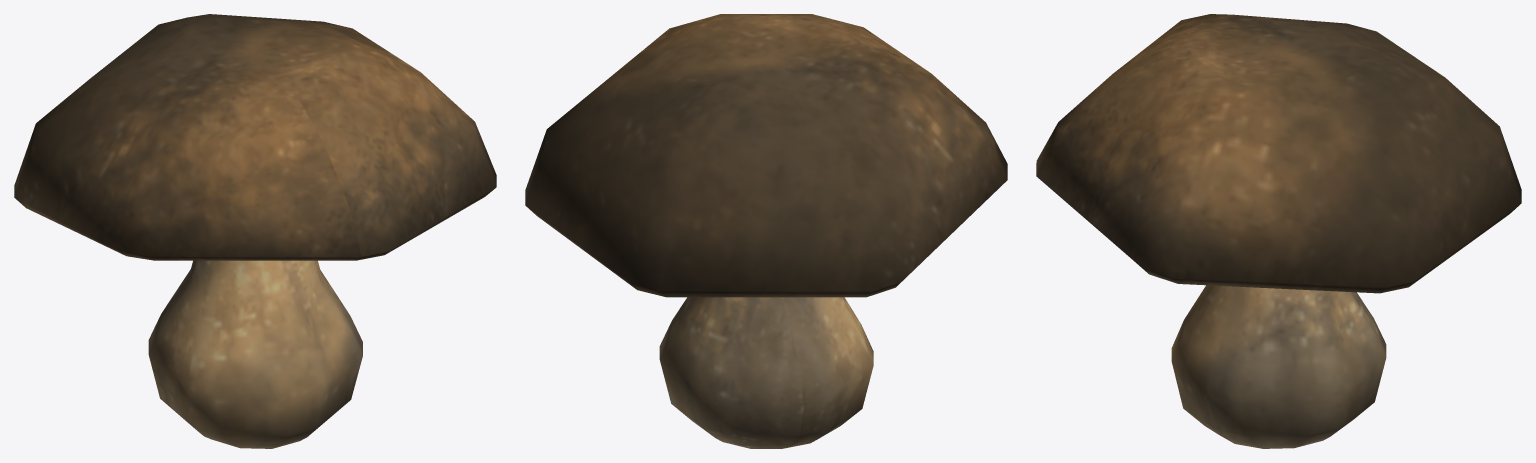
The model's file is LP_MushroomCooked.glb.
3 views of the same model, side by side, from view 1: azimuth 30°, elevation 25°; view 2: azimuth 150°, elevation 25°; view 3: azimuth 270°, elevation 25° (orthographic).
Visible parts, largest first — view 1: Mushroom_Raw; view 2: Mushroom_Raw; view 3: Mushroom_Raw.
Part boxes in pixels (left/top/right/bottom): Mushroom_Raw: left=14, top=14, right=496, bottom=448; Mushroom_Raw: left=525, top=14, right=1007, bottom=448; Mushroom_Raw: left=1036, top=14, right=1521, bottom=448.
Size of the model in its own units: 0.1849 by 0.1771 by 0.2054.
Materials: 2 (2 with a texture image).
